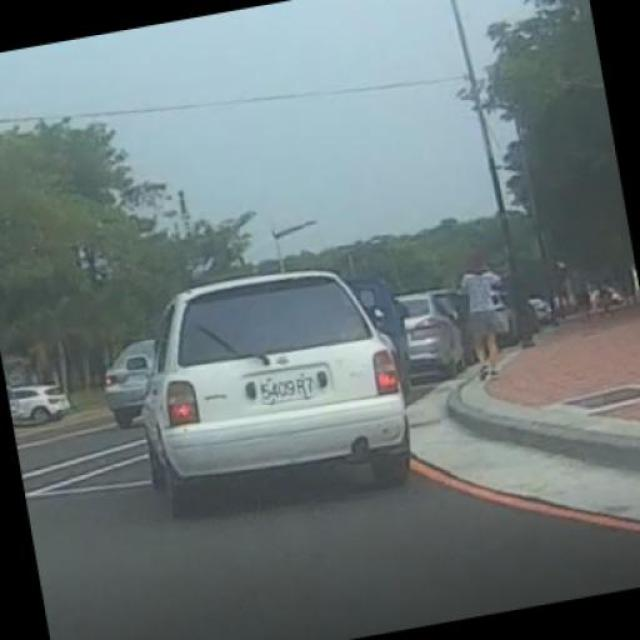illegalparking: (115, 249, 462, 517)
